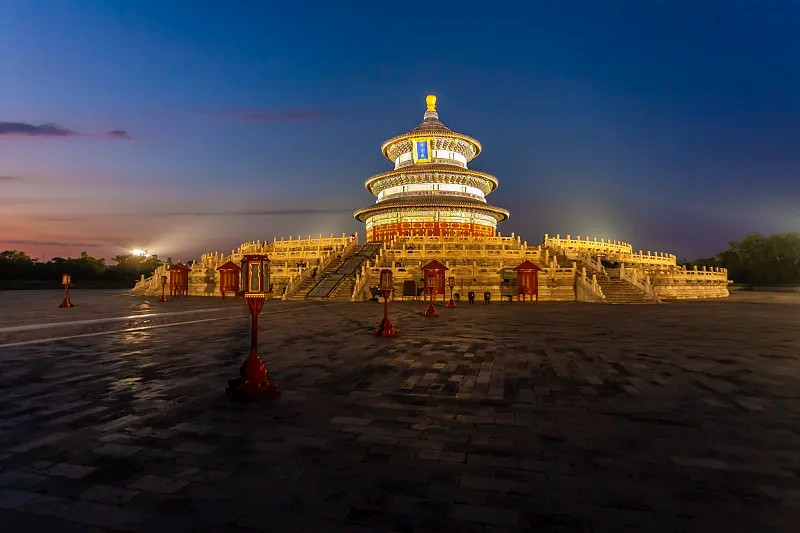Heaven: (353, 94, 510, 237)
